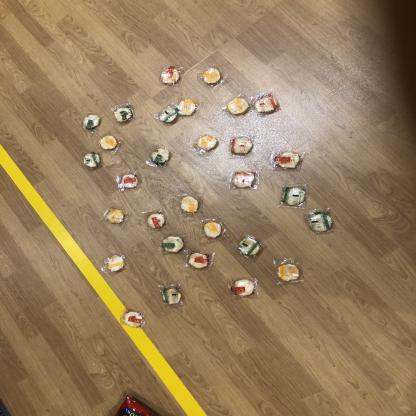green_setoshio: (306, 208, 338, 237), (279, 182, 309, 210), (236, 234, 266, 260), (159, 283, 186, 308), (144, 146, 175, 167), (159, 234, 190, 255), (110, 102, 138, 124), (78, 111, 105, 133), (154, 104, 180, 125), (80, 152, 106, 171)
red_setoshio: (270, 149, 309, 172), (117, 306, 150, 332), (254, 90, 282, 118), (112, 170, 145, 193), (230, 168, 261, 192), (186, 250, 218, 272), (157, 63, 185, 88), (227, 135, 258, 157), (229, 278, 257, 302), (143, 208, 169, 231)
yellow_setoshio: (273, 258, 307, 286), (200, 216, 229, 244), (198, 64, 229, 90), (176, 190, 203, 216), (224, 95, 253, 118), (101, 206, 132, 227), (195, 132, 222, 155), (104, 253, 128, 275), (98, 134, 123, 154), (179, 96, 202, 117)
